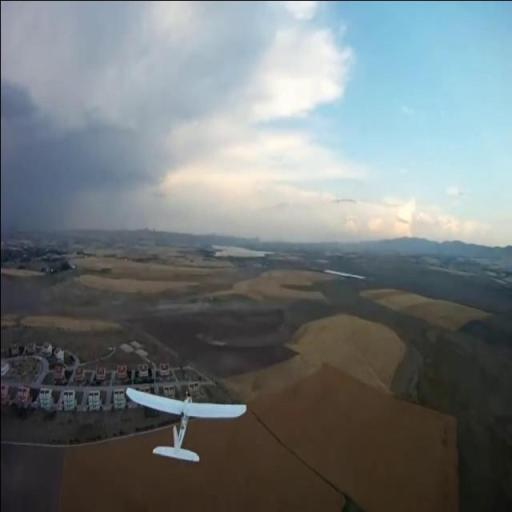uav: (124, 382, 246, 461)
